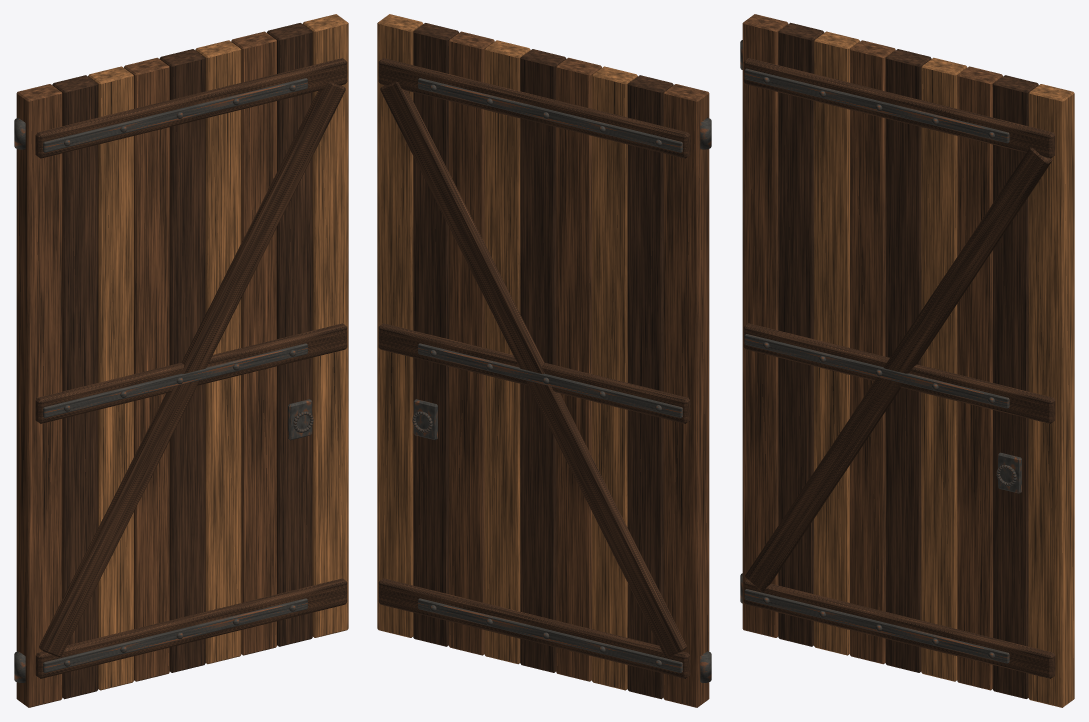
The model's file is gate_left.glb.
3 renders of one model, left to right at view 1: azimuth 30°, elevation 25°; view 2: azimuth 150°, elevation 25°; view 3: azimuth 330°, elevation 25°, orthographic.
Parts seen in each view (by area): view 1: oak_dark, oak, oak_light, iron; view 2: oak_dark, oak, oak_light, iron; view 3: oak_dark, oak_light, oak, iron.
Boxes of the visible parts, bbox=[...] form: oak_dark: bbox=[35, 23, 347, 699]; oak: bbox=[16, 31, 276, 707]; oak_light: bbox=[88, 14, 348, 690]; iron: bbox=[14, 78, 313, 682]; oak_dark: bbox=[378, 23, 690, 699]; oak: bbox=[449, 31, 709, 707]; oak_light: bbox=[377, 14, 637, 690]; iron: bbox=[412, 78, 711, 682]; oak_dark: bbox=[743, 22, 1055, 698]; oak_light: bbox=[814, 31, 1074, 707]; oak: bbox=[742, 14, 1002, 690]; iron: bbox=[740, 40, 1021, 663].
Bounding box in the file's own units: 1.83 × 3.25 × 0.286.
Materials: 4 (4 with a texture image).
